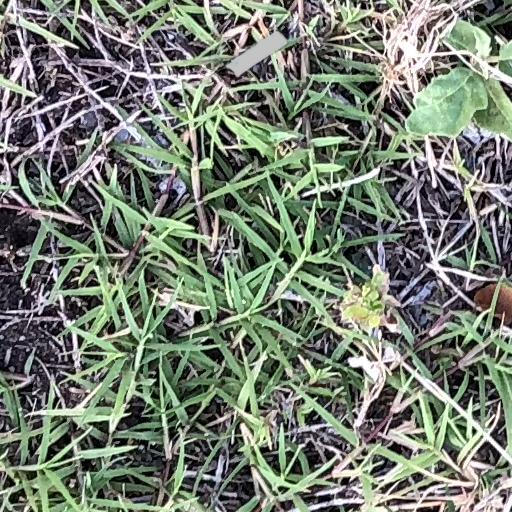smoke: (226, 32, 287, 76)
